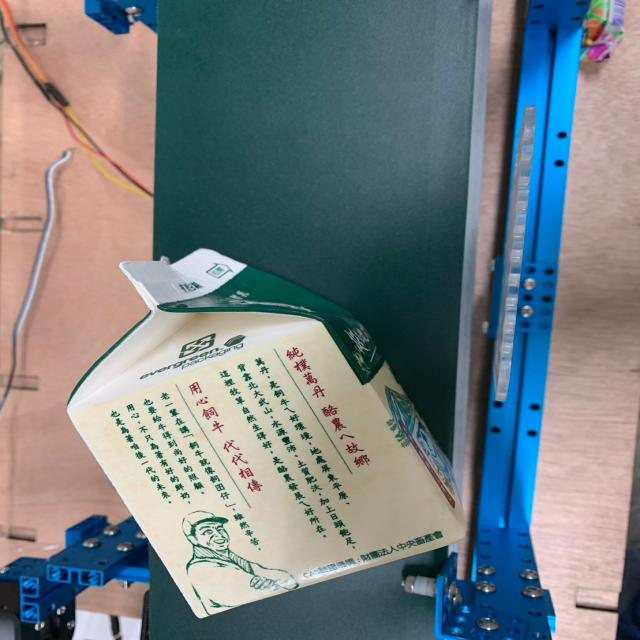non_white_jug: (21, 232, 522, 640)
